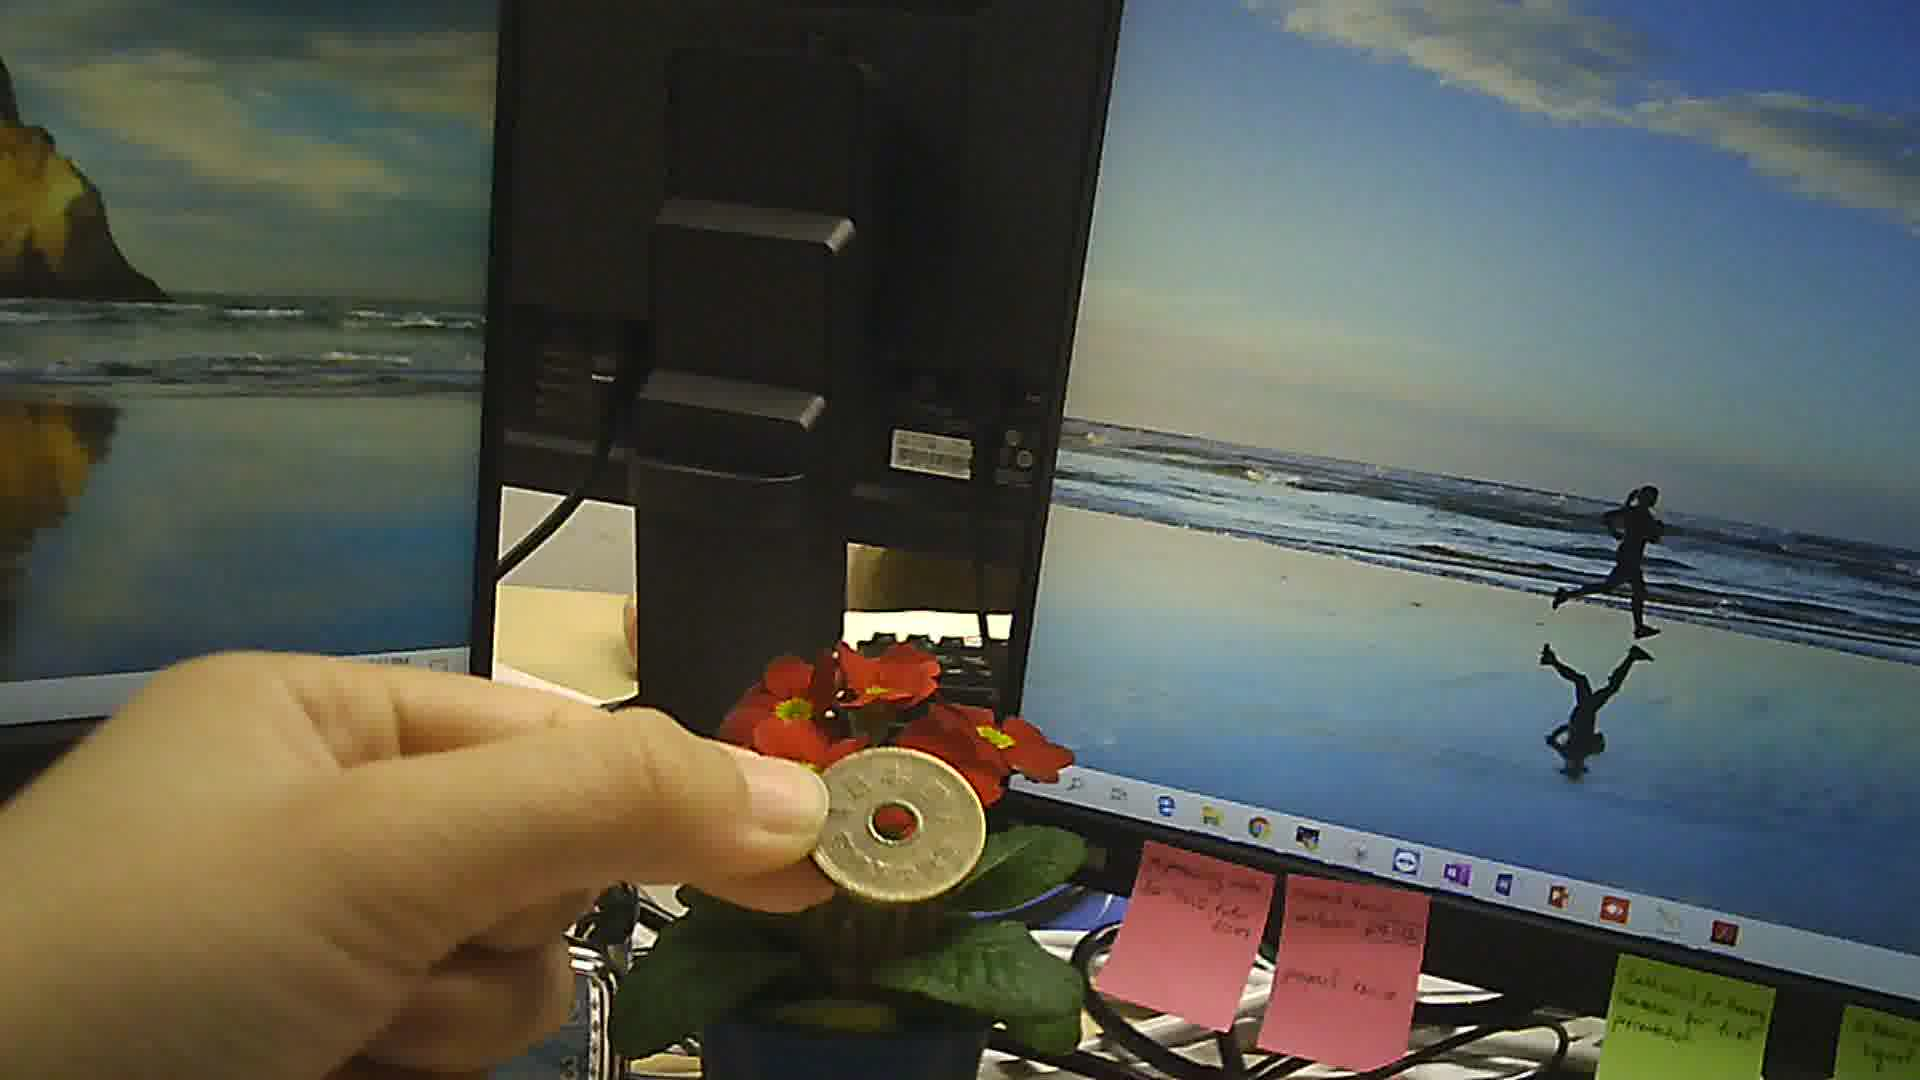5 Yen: (796, 736, 988, 902)
